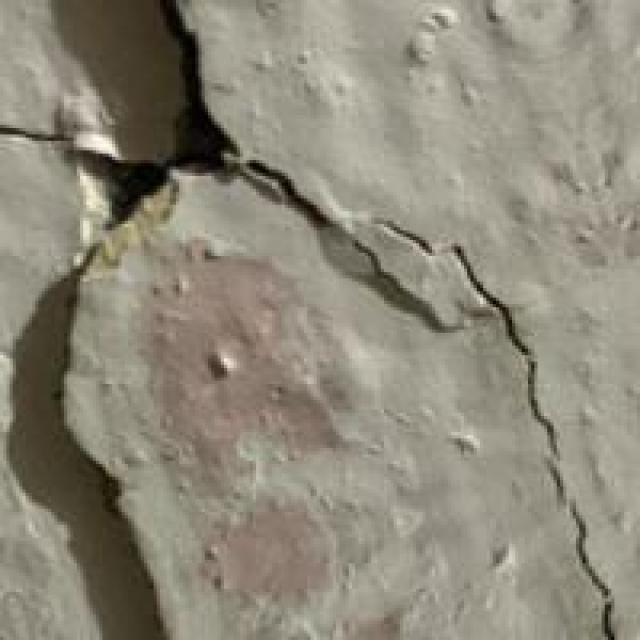crack: (0, 0, 582, 608)
